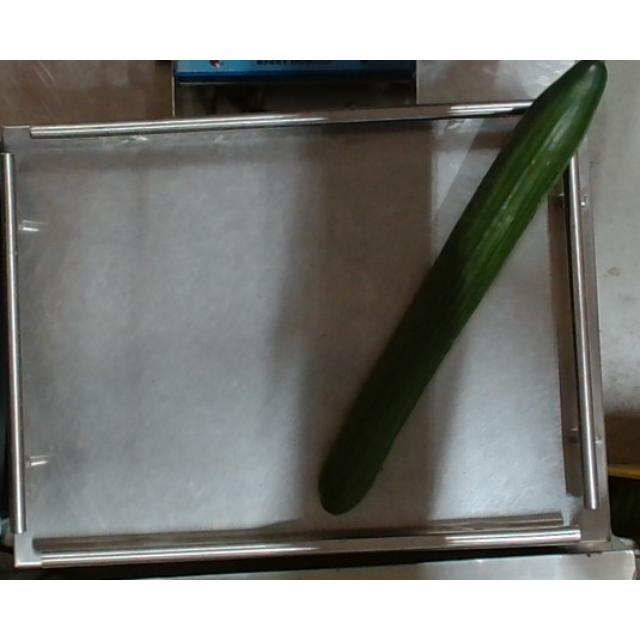cucumber: (322, 62, 606, 514)
